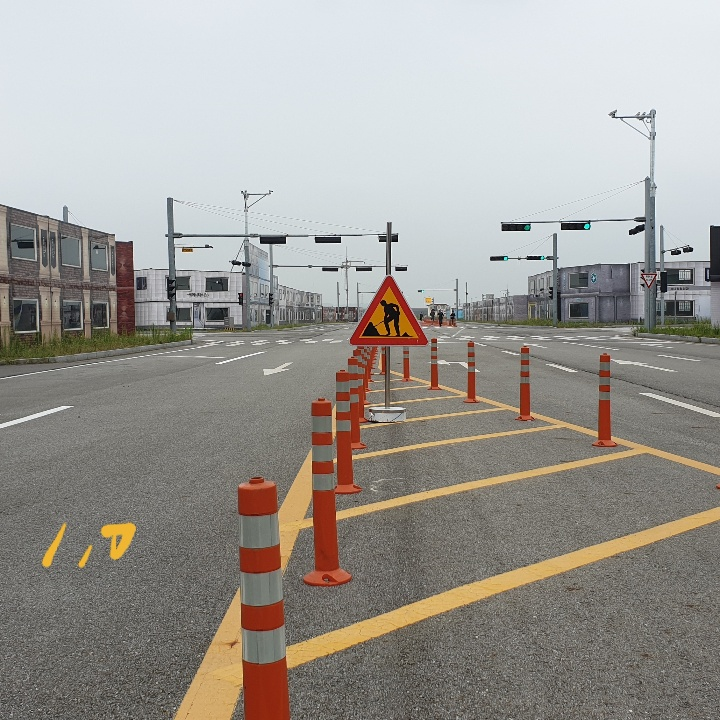const: (358, 292, 418, 337)
